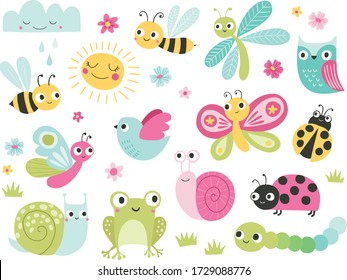animal: (13, 194, 89, 257), (105, 188, 170, 258), (174, 148, 235, 220), (237, 219, 347, 255), (246, 170, 323, 218), (291, 103, 342, 161)
bird: (201, 91, 287, 159), (206, 8, 262, 83), (30, 127, 95, 189), (1, 58, 63, 120), (138, 8, 205, 56), (111, 110, 179, 157), (295, 35, 347, 96)
cloud: (2, 4, 83, 34)
flower: (260, 56, 285, 80), (307, 10, 332, 31), (149, 63, 171, 86), (4, 137, 23, 159), (100, 11, 119, 31), (105, 162, 122, 180), (1, 164, 13, 178), (179, 85, 189, 98), (74, 110, 84, 121)
sun: (67, 40, 140, 101)
